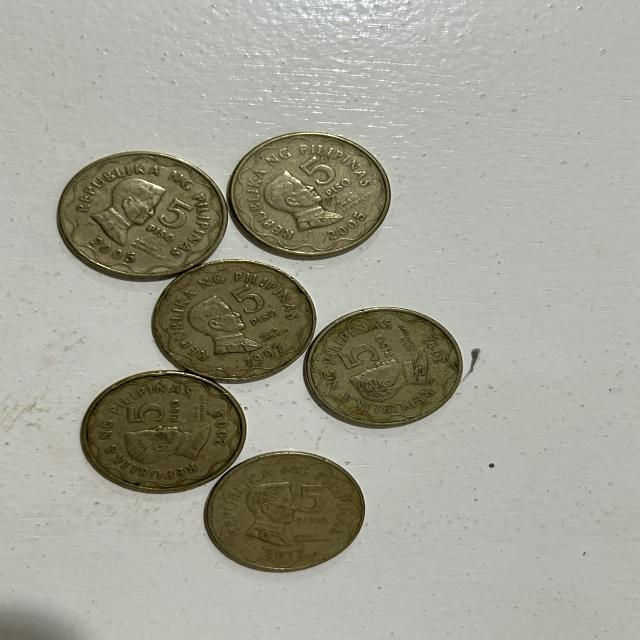5_Old_Front: (331, 333, 405, 375), (229, 277, 286, 329), (290, 158, 356, 202), (118, 397, 197, 431), (140, 192, 192, 242), (290, 480, 338, 533)
